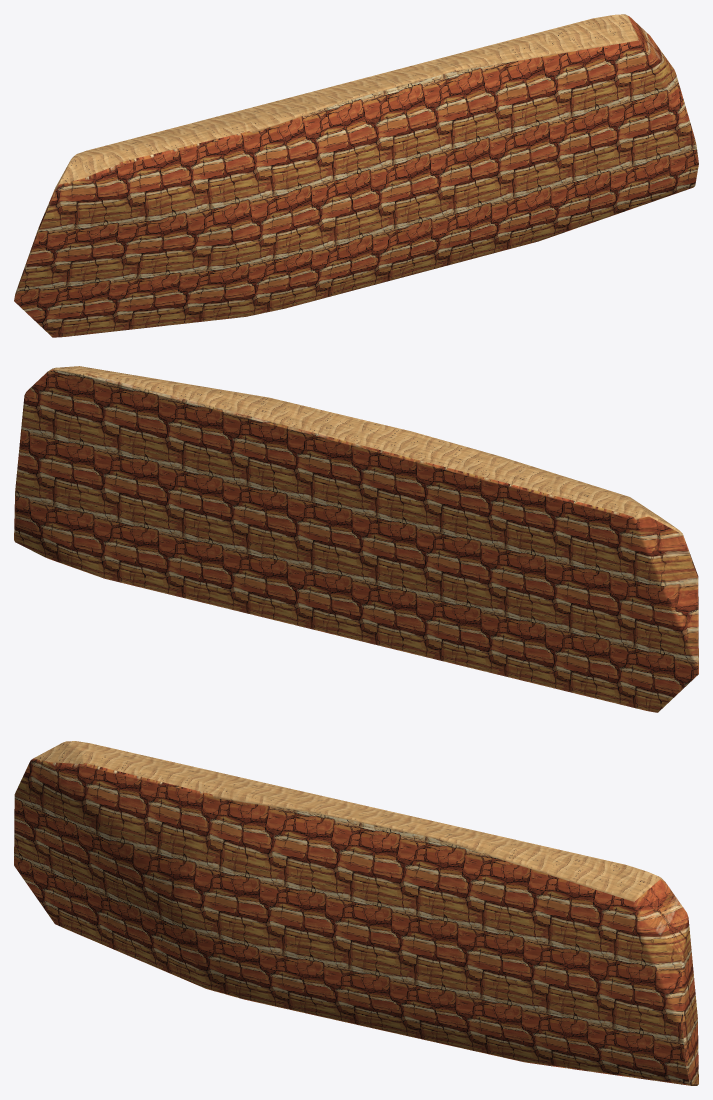
Rendered from v4_cliff_n_03.glb.
3 renders of one model, top to bottom at view 1: azimuth 30°, elevation 25°; view 2: azimuth 150°, elevation 25°; view 3: azimuth 330°, elevation 25°, orthographic. The views are drawn at different scales.
Parts seen in each view (by area): view 1: v4_cliff_n_03; view 2: v4_cliff_n_03; view 3: v4_cliff_n_03.
Boxes of the visible parts, left/top/right/bottom form: v4_cliff_n_03: left=14, top=14, right=698, bottom=337; v4_cliff_n_03: left=14, top=366, right=698, bottom=712; v4_cliff_n_03: left=14, top=741, right=698, bottom=1085.
Bounding box in the file's own units: 21.7 × 6 × 2.
1 material, 1 textured.
